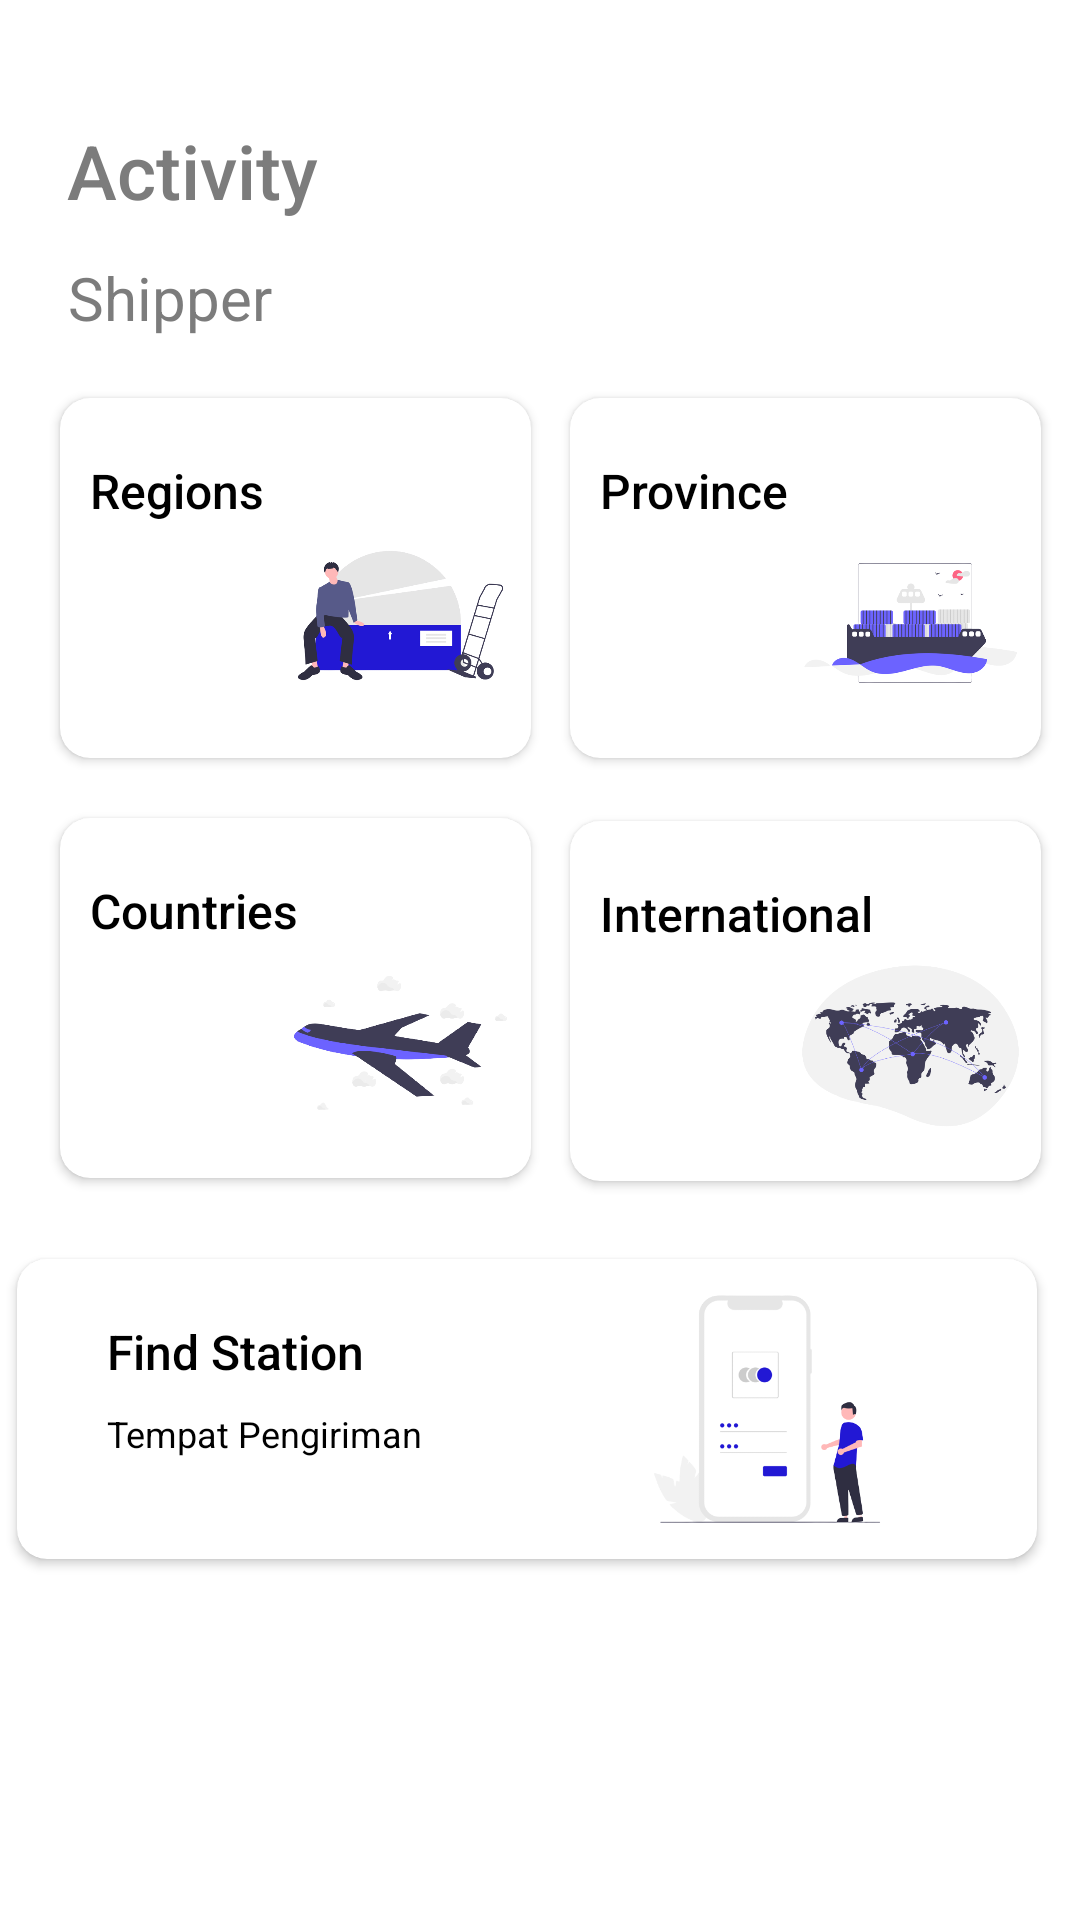

Named icons in this screenshot (1080x1920) and their bounding boxes, box=[x1, y1, x2, y2]:
aircraft: box=[294, 1013, 481, 1097]
